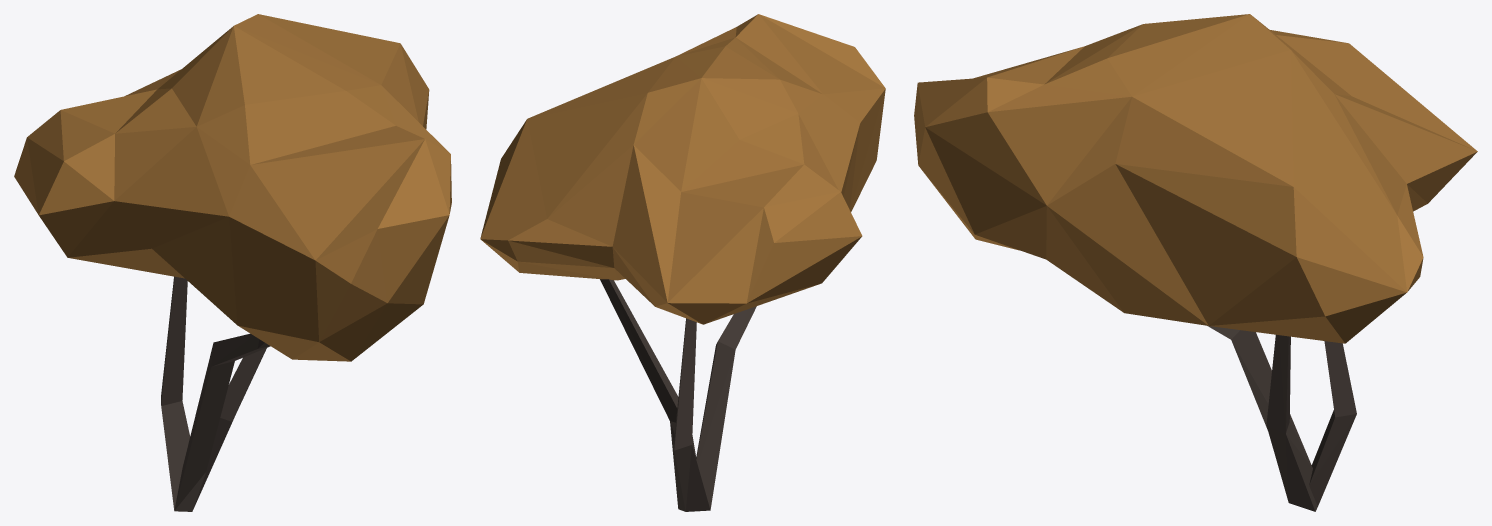
File: SM_Shrub_02.fbx
The picture shows the model from 3 angles, left to right: view 1: azimuth 30°, elevation 25°; view 2: azimuth 150°, elevation 25°; view 3: azimuth 270°, elevation 25°; orthographic projection. The views are drawn at different scales.
Parts seen in each view (by area): view 1: SM_Shrub_02; view 2: SM_Shrub_02; view 3: SM_Shrub_02.
Boxes of the visible parts, bbox=[...] form: SM_Shrub_02: bbox=[14, 14, 451, 511]; SM_Shrub_02: bbox=[480, 14, 885, 511]; SM_Shrub_02: bbox=[914, 14, 1477, 511].
Size of the model in its own units: 353 by 404 by 413.
